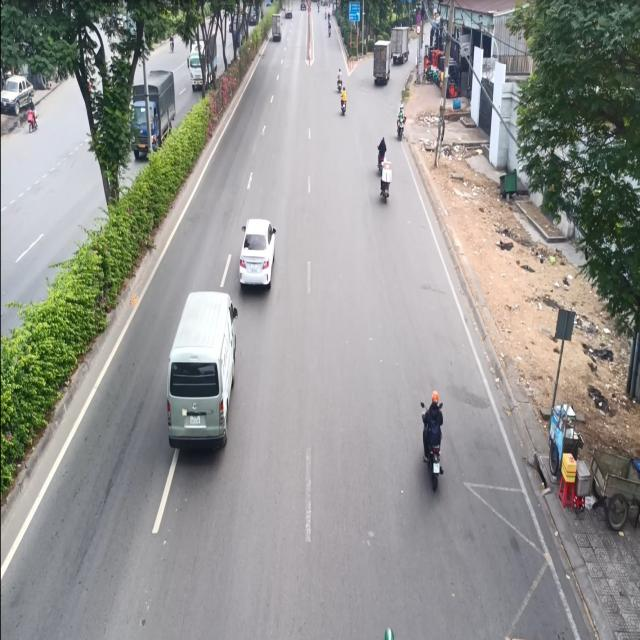car: (164, 277, 236, 461), (240, 206, 277, 307)
motor: (414, 384, 444, 487), (392, 98, 406, 149), (339, 86, 348, 114)
truck: (371, 34, 390, 83), (391, 24, 410, 66)
